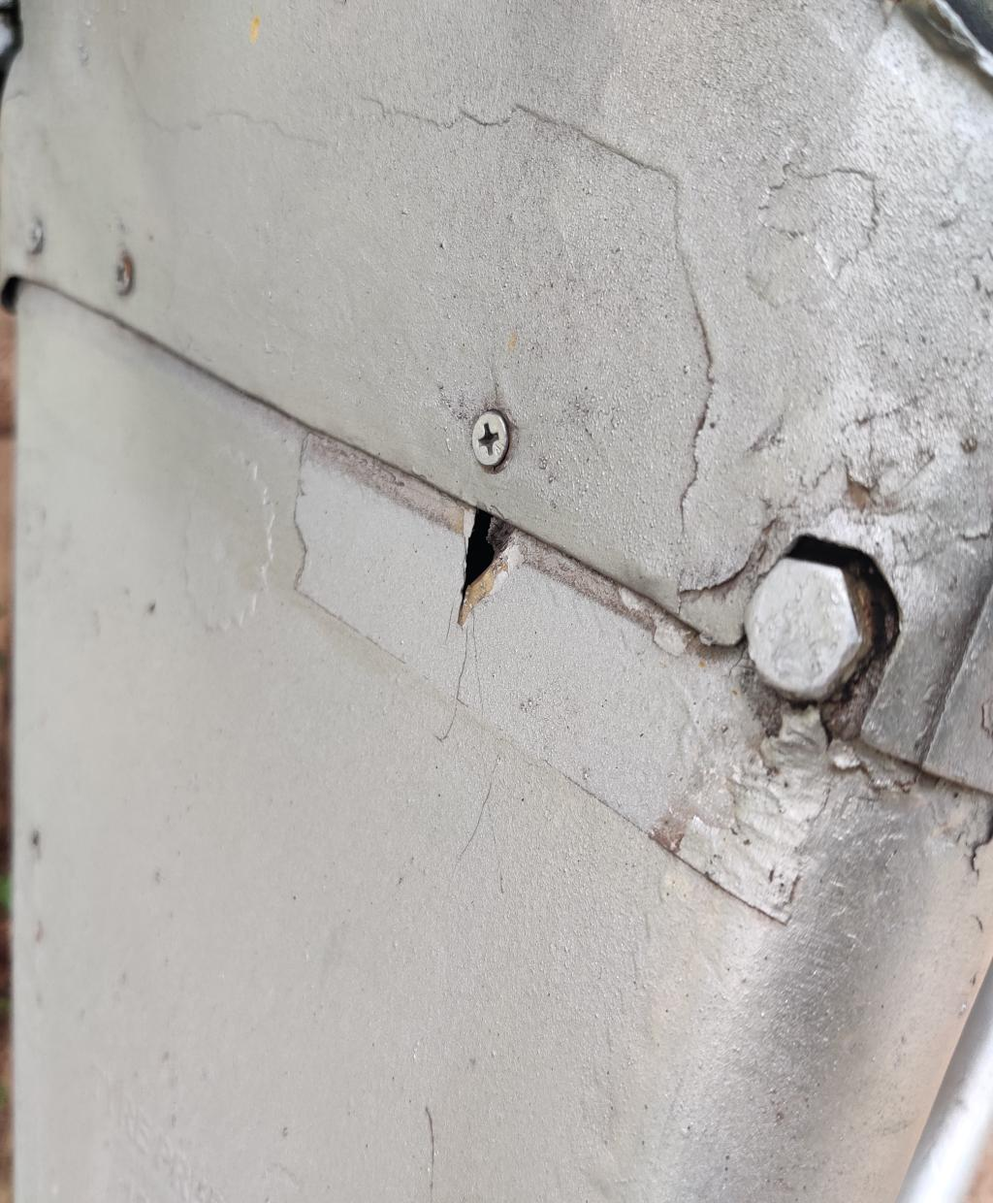crack: (410, 477, 559, 677)
